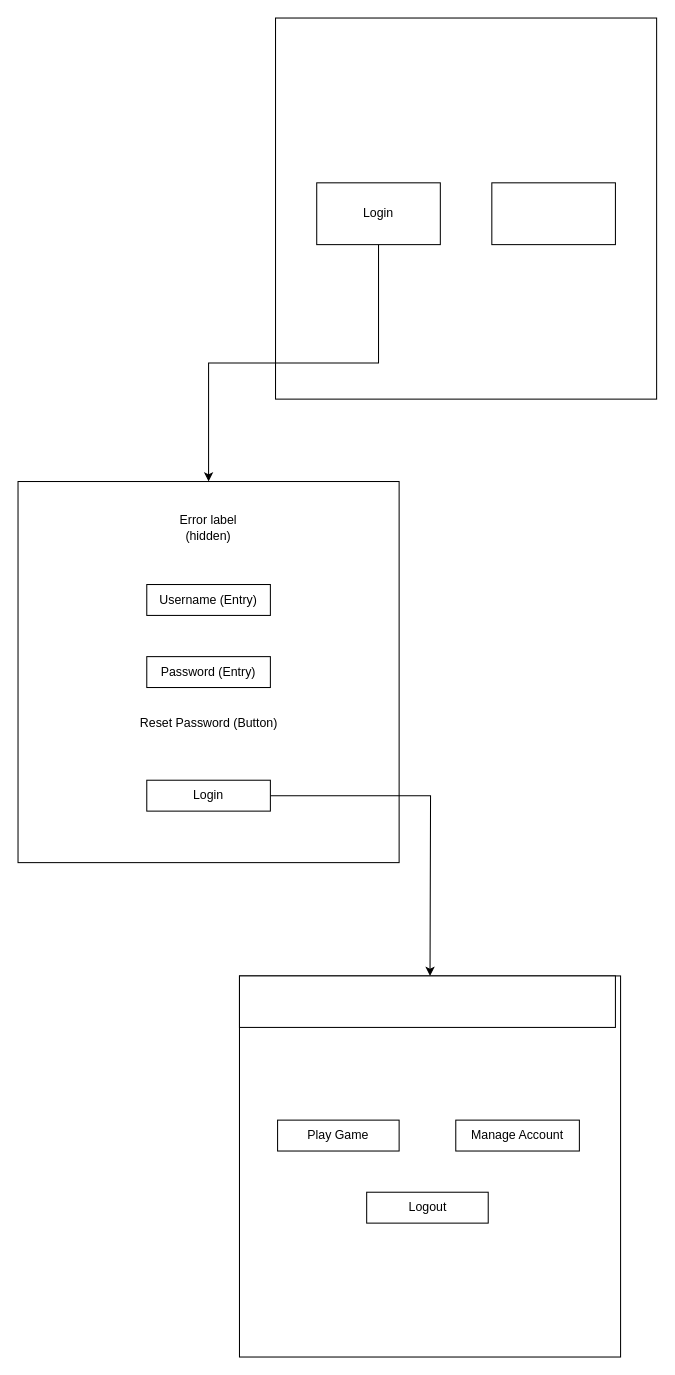
Image size: 675x1375. Some labels were removed from this diagram. The shapes that lost their labels are listed below. From the top down, each one's centre as x and y in pixels, then its label:
pixel 553 213: Signup
pixel 426 1001: Menu Bar
